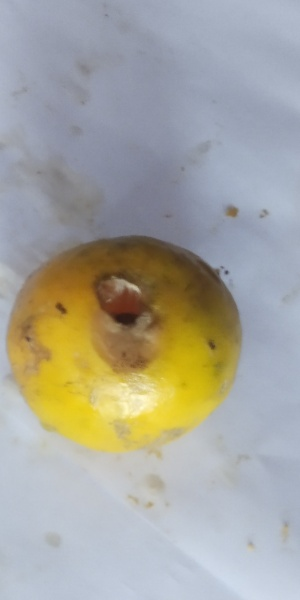BAD: (8, 237, 238, 458)
